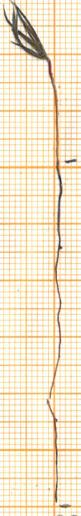flower: (1, 0, 59, 67)
root: (49, 166, 69, 506)
stem: (45, 69, 64, 162)
